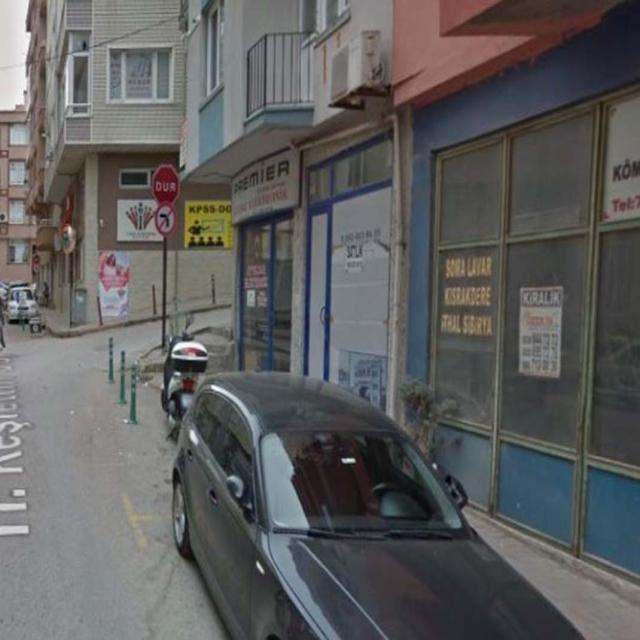dur: (151, 164, 180, 204)
soladonulmez: (155, 202, 175, 234)
